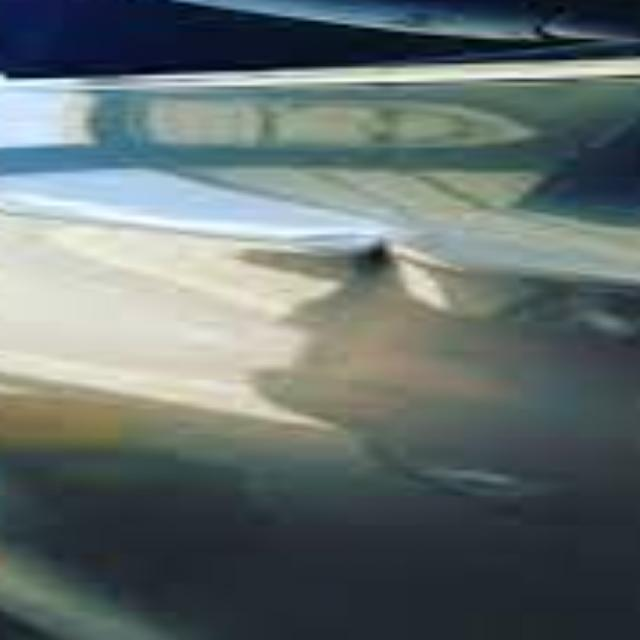dents: (265, 215, 541, 320)
